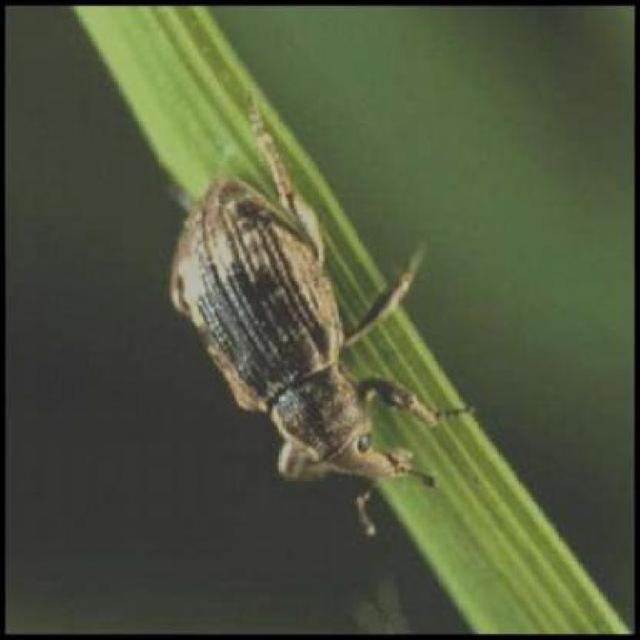rice-bug: (163, 134, 446, 500)
